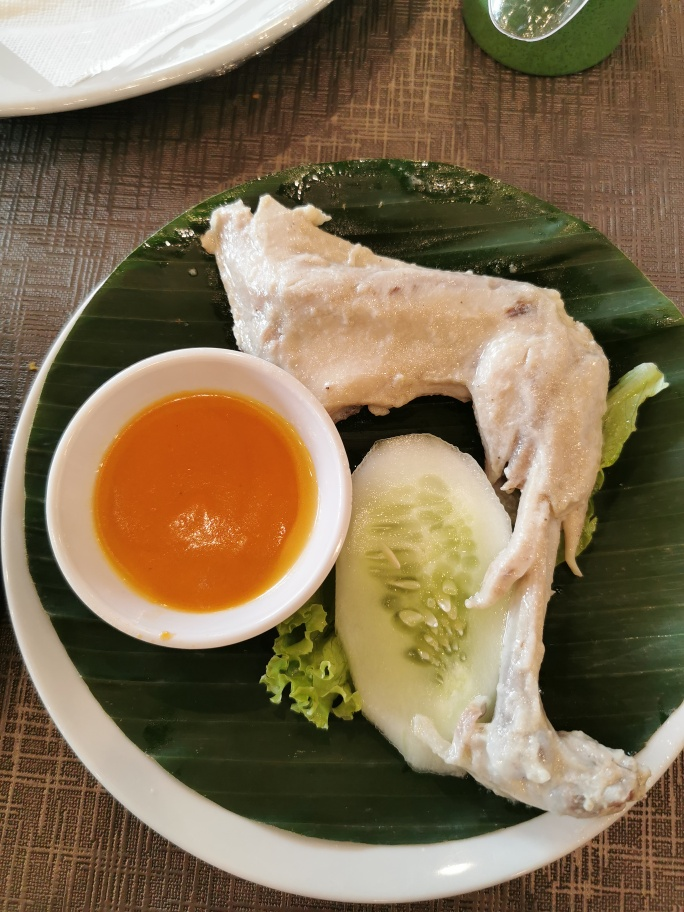ayam pop: (210, 202, 647, 817)
extra: (48, 342, 507, 789)
